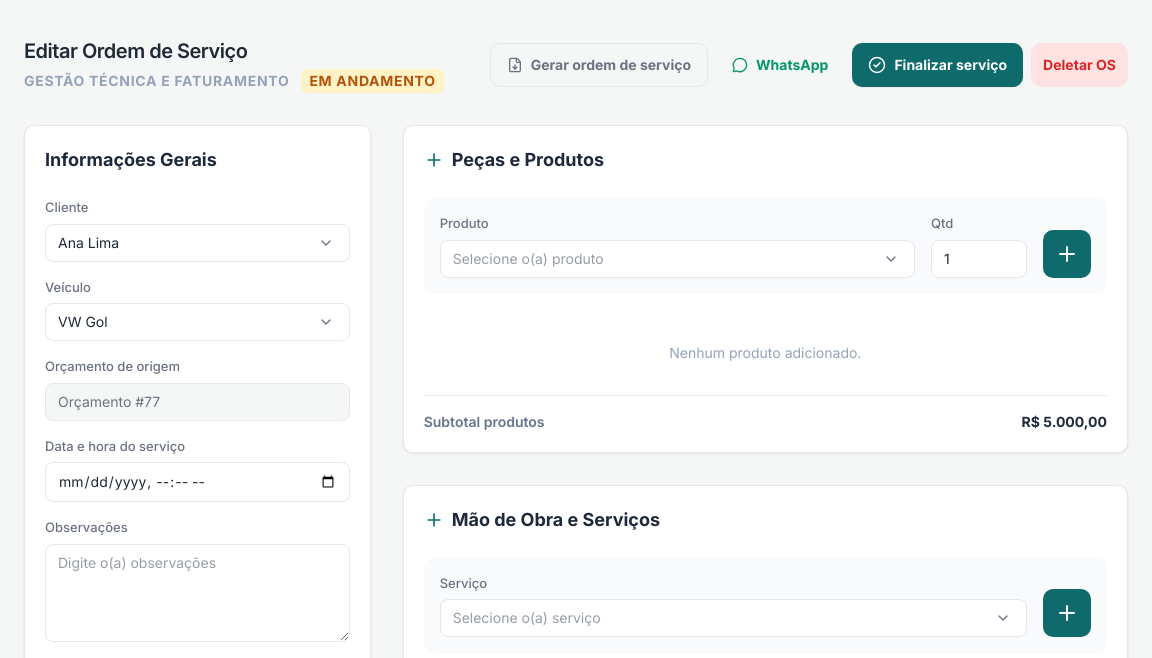
Test: <OrderEdit> › Salvar OS fica desabilitado até mexer em algo e volta a desabilitar depois de salvar
This screenshot has width=1152, height=658.
Expected: the text "Orçamento de origem" is shown, [45, 358, 180, 374]
In the text box with placeholder "Digite o(a) observações": point(197, 592) [45, 544, 350, 642], type "Cliente pediu revisão"
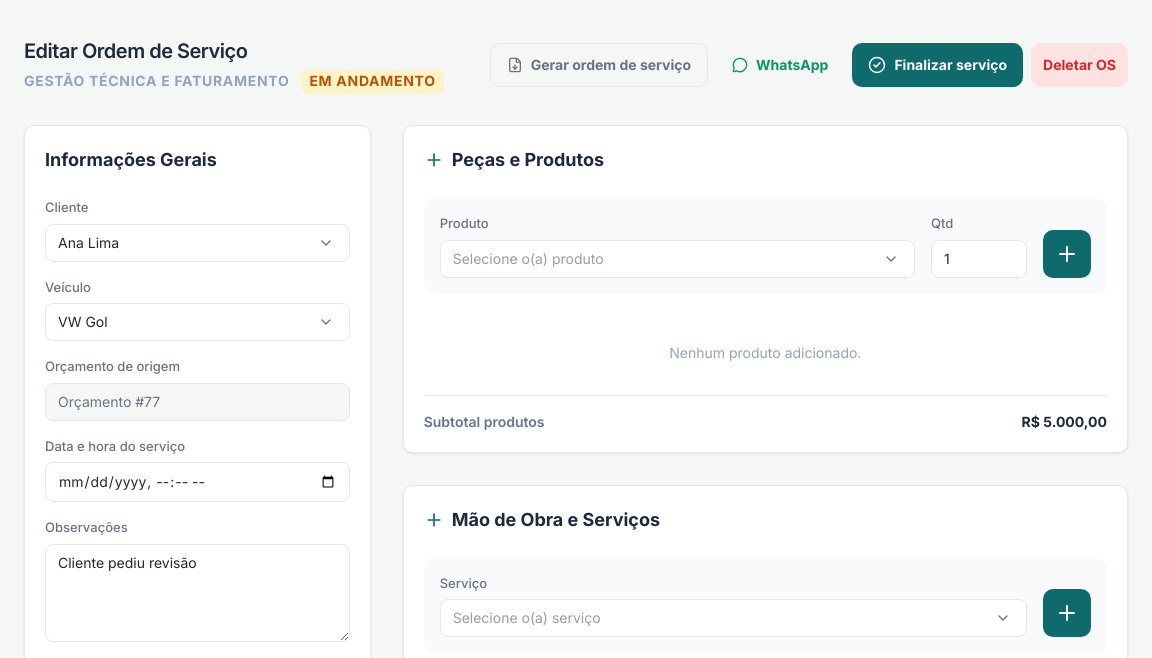
Clear the text box with placeholder "Digite o(a) observações": point(197, 592) [45, 544, 350, 642]
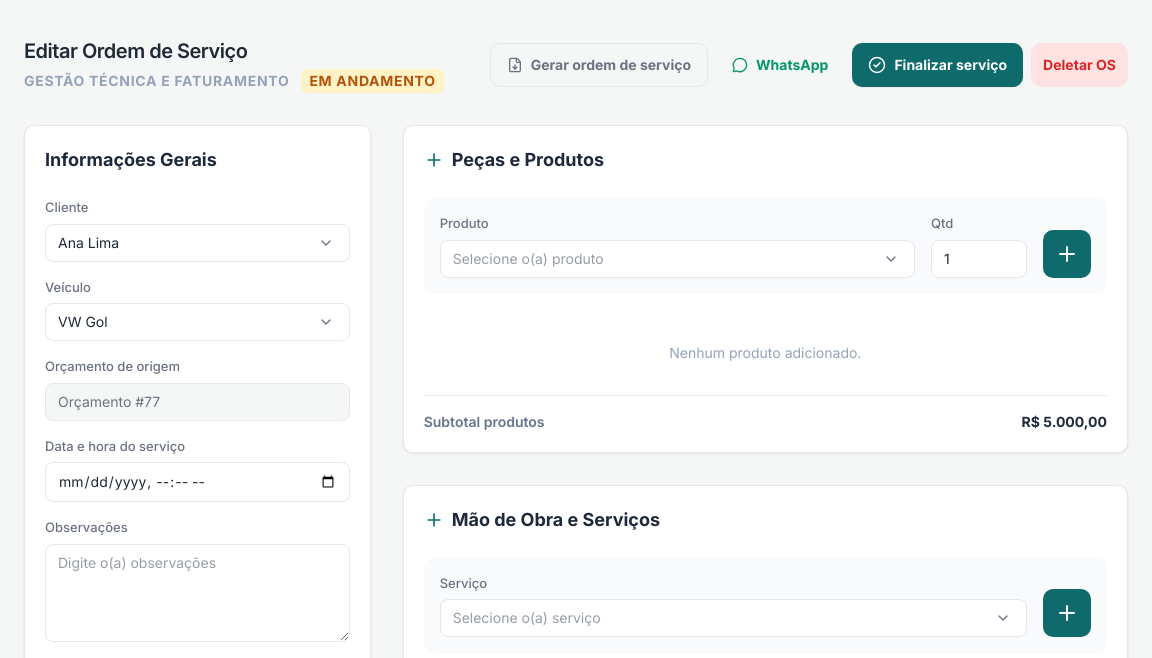
In the text box with placeholder "Digite o(a) observações": point(197, 592) [45, 544, 350, 642], type "Cliente pediu revisão"
(page scrolled)
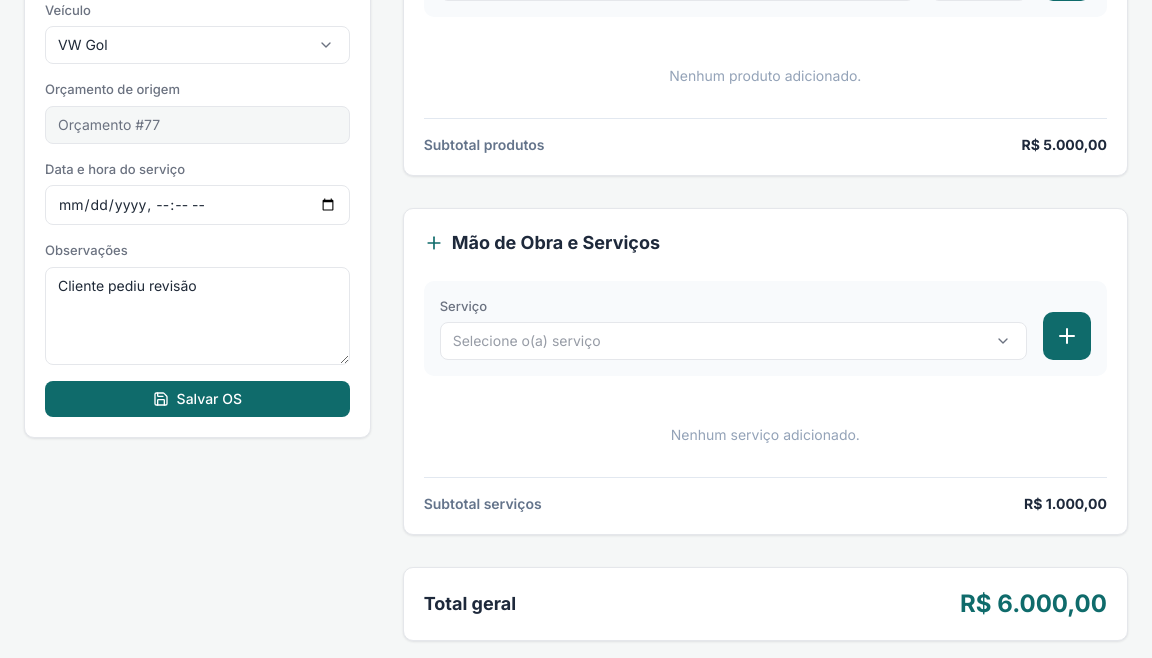
Click the button "Salvar OS": point(197, 398) [45, 380, 350, 416]
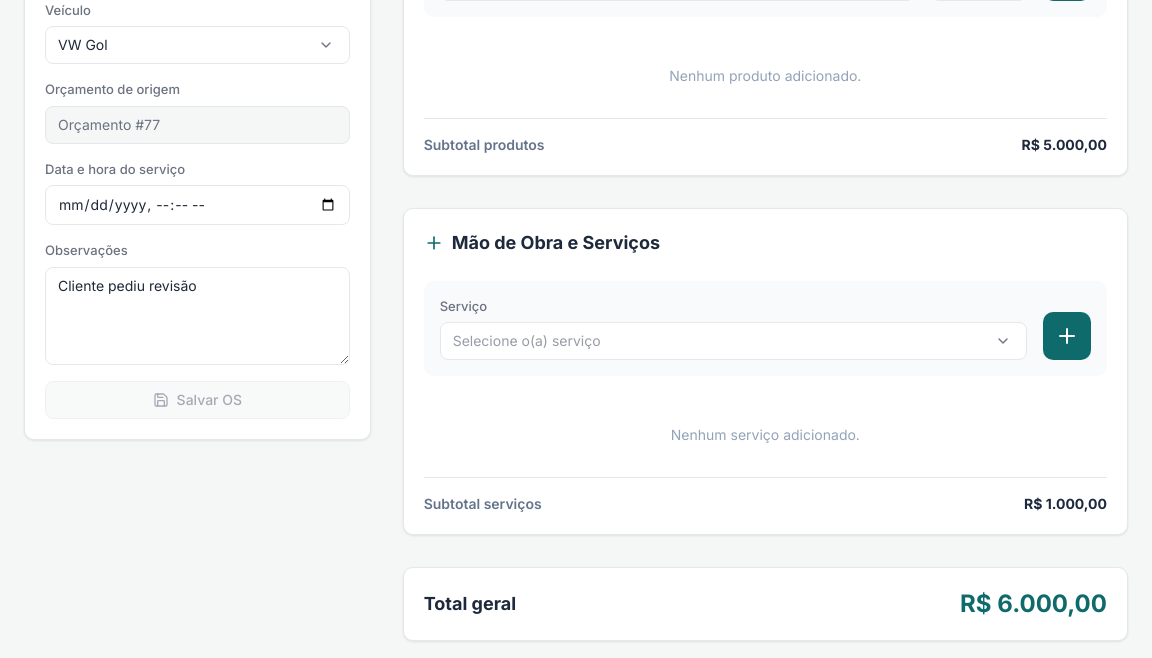
Result: the button "Salvar OS" is disabled at [45, 380, 350, 418]
